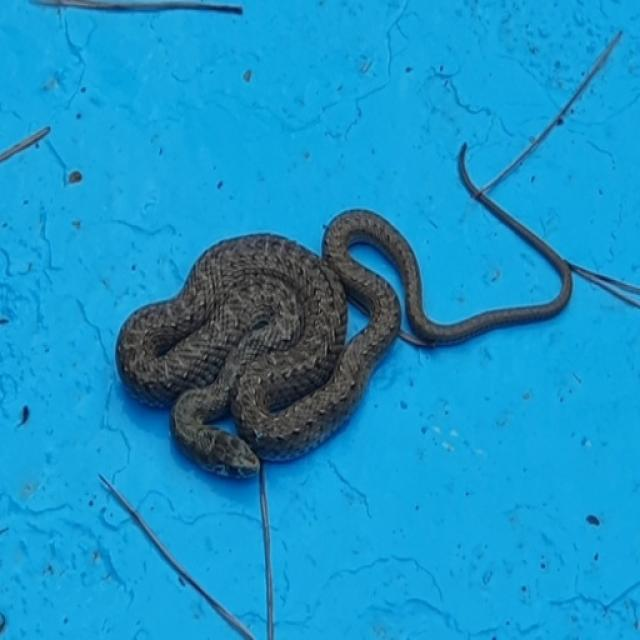snake: (105, 154, 590, 489)
